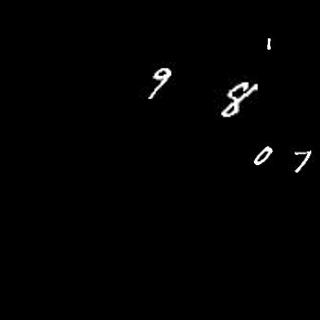eight: (219, 83, 261, 117)
nine: (144, 67, 173, 102)
one: (265, 35, 273, 52)
seven: (291, 146, 312, 174)
zero: (251, 147, 271, 166)
